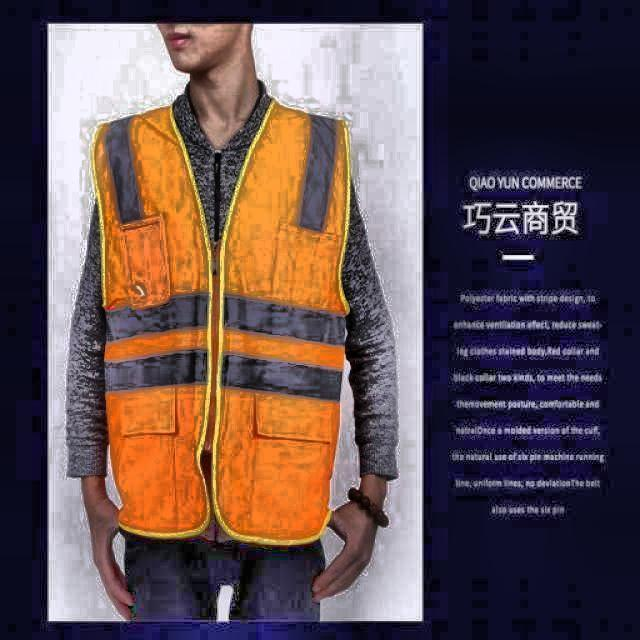safety_jacket: (93, 117, 332, 525)
